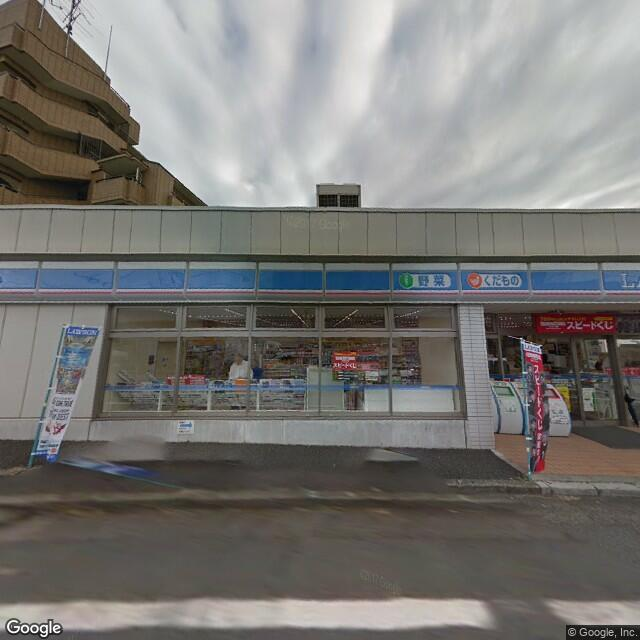lawson: (1, 252, 640, 311)
